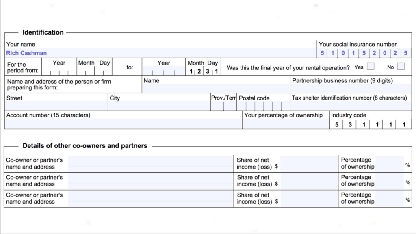checkbox: (394, 61, 407, 72), (366, 62, 376, 71)
textbox: (3, 32, 318, 60), (2, 143, 236, 177), (1, 171, 239, 195), (2, 109, 246, 132), (1, 188, 237, 211), (228, 142, 341, 178), (139, 72, 293, 96), (314, 30, 414, 62), (286, 73, 414, 96), (288, 90, 414, 113), (335, 142, 416, 176), (231, 185, 341, 210), (230, 170, 341, 193), (105, 91, 213, 114), (3, 92, 111, 113), (238, 109, 333, 132), (327, 109, 414, 131), (335, 169, 413, 193), (336, 187, 414, 210), (139, 55, 188, 78), (76, 55, 114, 77), (40, 56, 78, 77), (184, 57, 223, 77), (208, 91, 240, 113), (392, 117, 413, 131), (367, 117, 385, 132), (379, 117, 397, 132), (352, 118, 372, 130), (328, 118, 345, 132), (220, 100, 238, 113), (340, 119, 359, 130), (209, 99, 225, 112), (387, 47, 404, 59), (336, 47, 350, 61), (357, 46, 371, 60), (315, 46, 329, 59), (367, 47, 381, 60), (378, 46, 392, 59), (271, 100, 284, 114), (399, 47, 414, 59), (262, 100, 275, 113), (279, 99, 292, 112), (325, 47, 339, 59), (347, 47, 361, 59), (202, 65, 214, 79), (252, 100, 266, 112), (39, 66, 52, 78), (243, 100, 256, 112), (141, 67, 155, 78), (161, 67, 178, 76), (83, 67, 98, 77), (172, 67, 187, 77), (48, 67, 61, 78), (93, 65, 106, 76), (193, 67, 206, 78), (235, 100, 248, 111), (152, 67, 166, 77), (102, 65, 113, 77), (185, 65, 196, 77), (74, 66, 87, 76), (66, 67, 77, 77), (210, 66, 221, 76), (58, 67, 69, 76)
